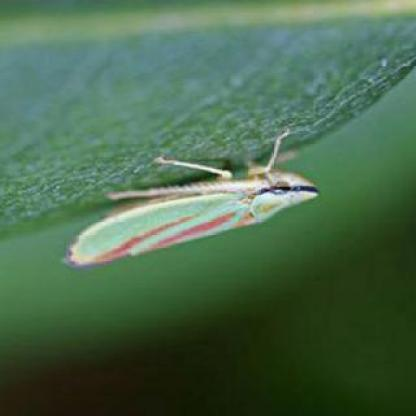green-leafhopper: (67, 151, 318, 269)
